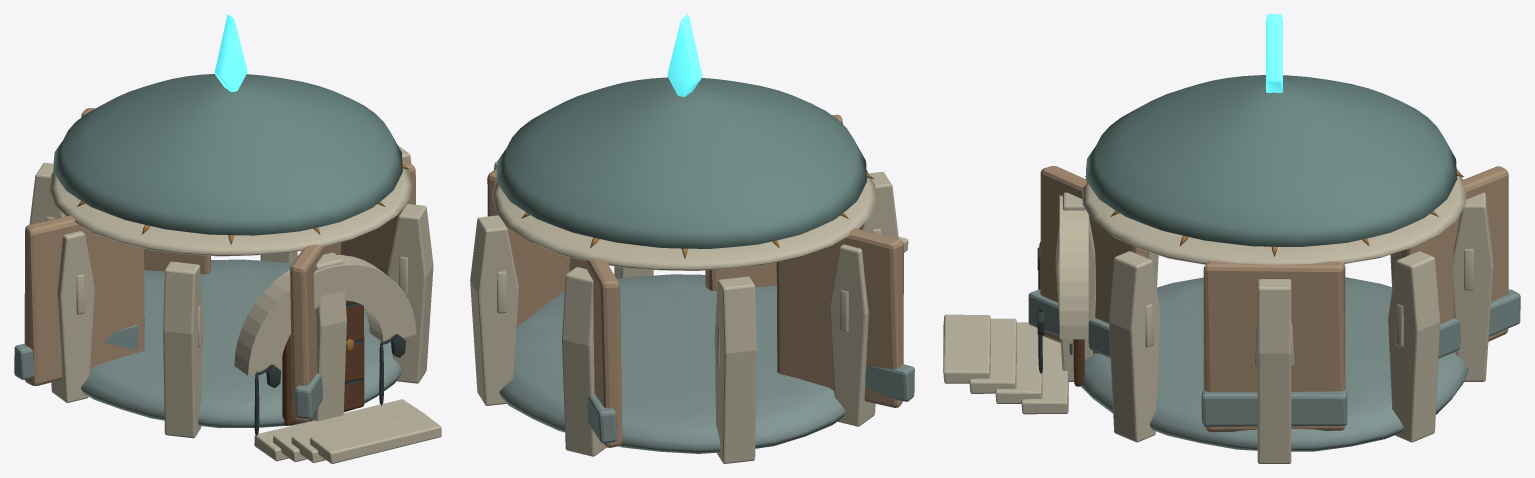
The model's file is sanctuary.glb.
The picture shows the model from 3 angles, left to right: view 1: azimuth 30°, elevation 25°; view 2: azimuth 150°, elevation 25°; view 3: azimuth 270°, elevation 25°; orthographic projection. The views are drawn at different scales.
Parts seen in each view (by area): view 1: Faceted sanctuary roof, Octagonal stepped foundation, Complete sanctuary wall 2, Grand entrance arch, Sanctuary carved cornice, Flying buttress 5, Flying buttress 4, Flying buttress 7, Complete sanctuary wall 6, Flying buttress 6, Entrance stair 3, Complete sanctuary wall 3 (+12 smaller); view 2: Faceted sanctuary roof, Octagonal stepped foundation, Complete sanctuary wall 2, Sanctuary carved cornice, Flying buttress 3, Flying buttress 1, Flying buttress 4, Flying buttress 2, Complete sanctuary wall 1, Complete sanctuary wall 6, Complete sanctuary wall 4, Complete sanctuary wall 0 (+8 smaller); view 3: Faceted sanctuary roof, Octagonal stepped foundation, Complete sanctuary wall 0, Sanctuary carved cornice, Flying buttress 7, Flying buttress 1, Complete sanctuary wall 4, Flying buttress 0, Flying buttress 2, Complete sanctuary wall 3, Complete sanctuary wall 5, Grand entrance arch (+11 smaller).
Part boxes in pixels (left/top/right/bottom): Faceted sanctuary roof: left=53, top=74, right=402, bottom=235; Octagonal stepped foundation: left=81, top=259, right=402, bottom=427; Complete sanctuary wall 2: left=24, top=215, right=144, bottom=385; Grand entrance arch: left=234, top=255, right=416, bottom=375; Sanctuary carved cornice: left=49, top=168, right=412, bottom=256; Flying buttress 5: left=163, top=261, right=202, bottom=438; Flying buttress 4: left=51, top=231, right=94, bottom=402; Flying buttress 7: left=387, top=204, right=433, bottom=383; Complete sanctuary wall 6: left=30, top=217, right=142, bottom=385; Flying buttress 6: left=311, top=252, right=346, bottom=421; Entrance stair 3: left=310, top=411, right=441, bottom=463; Complete sanctuary wall 3: left=291, top=242, right=340, bottom=422; Faceted sanctuary roof: left=496, top=77, right=866, bottom=248; Octagonal stepped foundation: left=499, top=274, right=845, bottom=453; Complete sanctuary wall 2: left=776, top=228, right=903, bottom=407; Sanctuary carved cornice: left=492, top=170, right=876, bottom=270; Flying buttress 3: left=714, top=276, right=756, bottom=463; Flying buttress 1: left=470, top=215, right=518, bottom=405; Flying buttress 4: left=829, top=244, right=875, bottom=426; Flying buttress 2: left=562, top=267, right=606, bottom=456; Complete sanctuary wall 1: left=589, top=258, right=622, bottom=447; Complete sanctuary wall 6: left=779, top=229, right=893, bottom=405; Complete sanctuary wall 4: left=487, top=173, right=565, bottom=327; Complete sanctuary wall 0: left=488, top=168, right=569, bottom=325; Faceted sanctuary roof: left=1086, top=75, right=1457, bottom=246; Octagonal stepped foundation: left=1081, top=277, right=1468, bottom=451; Complete sanctuary wall 0: left=1203, top=260, right=1345, bottom=432; Sanctuary carved cornice: left=1081, top=169, right=1466, bottom=264; Flying buttress 7: left=1108, top=251, right=1160, bottom=442; Flying buttress 1: left=1388, top=251, right=1440, bottom=442; Complete sanctuary wall 4: left=1204, top=260, right=1345, bottom=431; Flying buttress 0: left=1257, top=279, right=1291, bottom=463; Flying buttress 2: left=1452, top=192, right=1493, bottom=381; Complete sanctuary wall 3: left=1040, top=166, right=1148, bottom=353; Complete sanctuary wall 5: left=1400, top=170, right=1508, bottom=353; Grand entrance arch: left=1059, top=195, right=1088, bottom=339.
Size of the model in its own units: 6.29 by 5.22 by 7.54.
